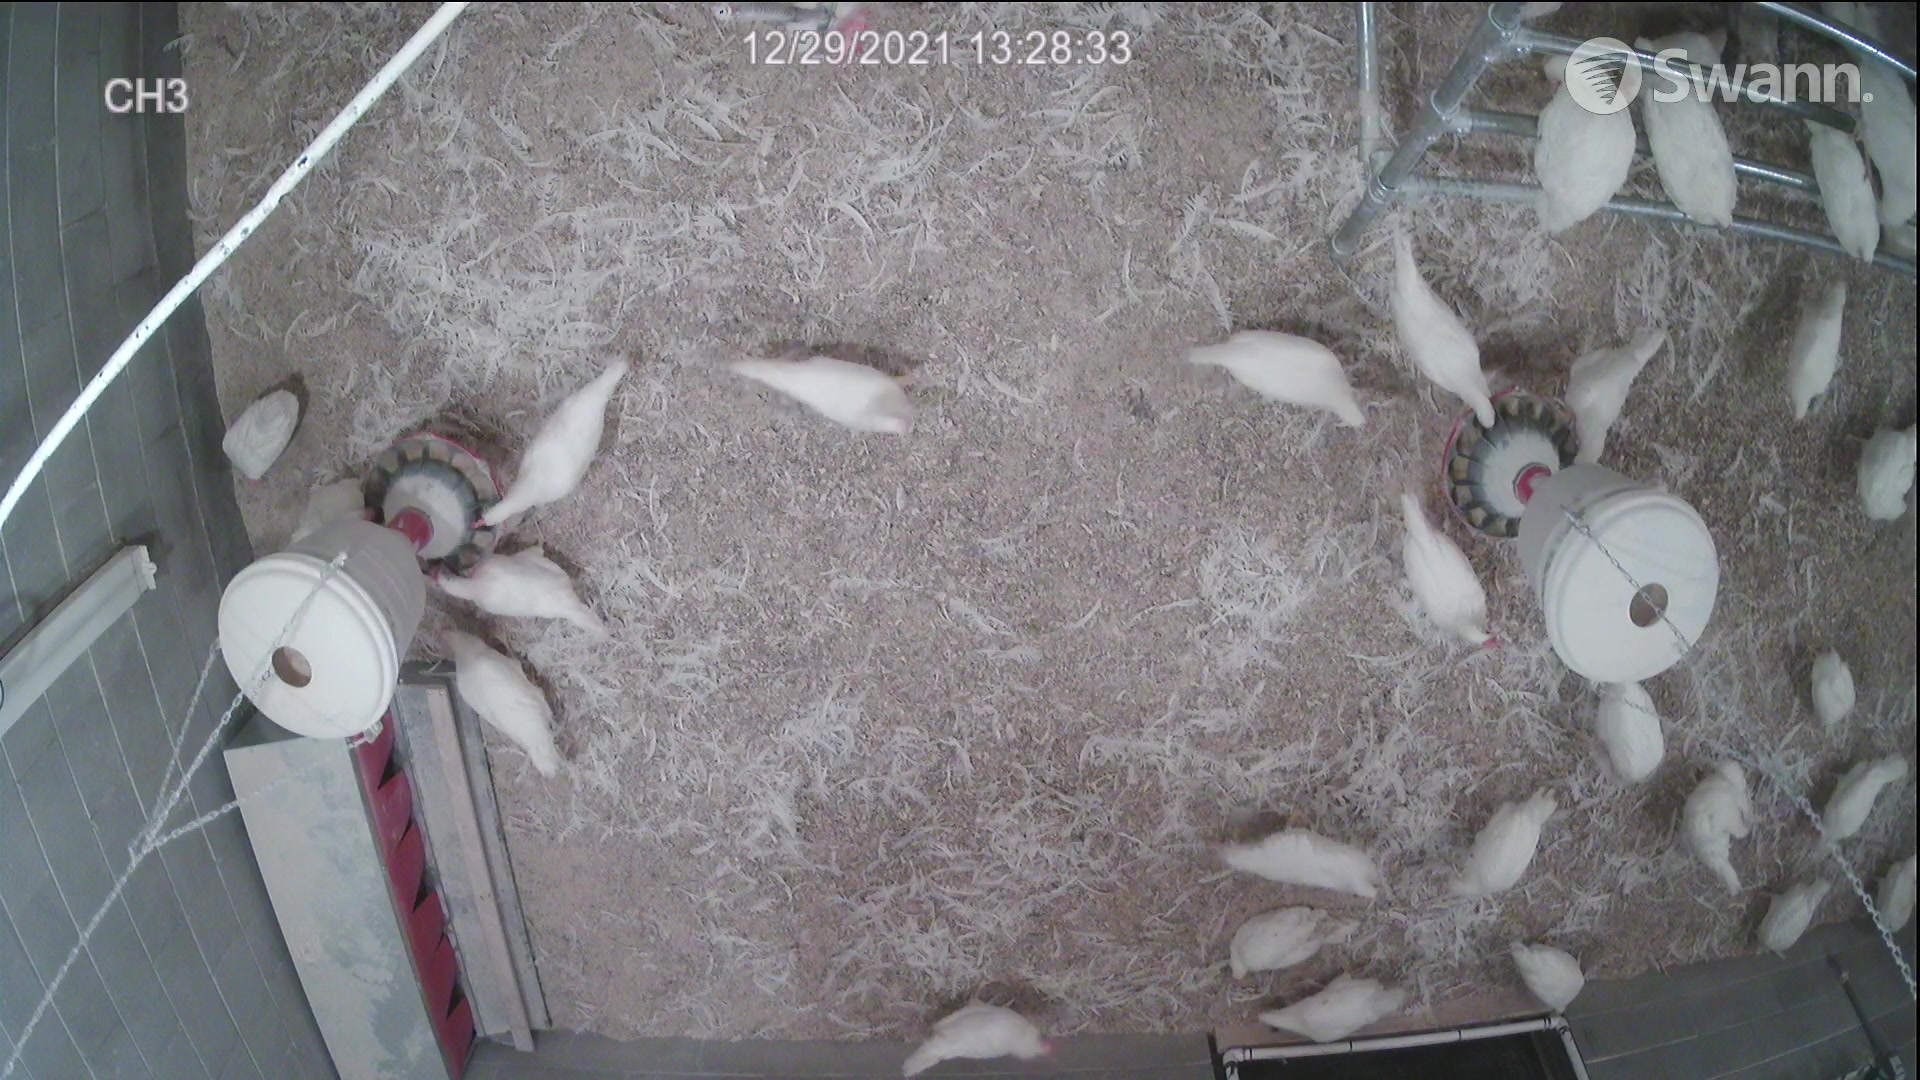Feeding: (444, 345, 640, 521), (1385, 232, 1509, 430), (1543, 301, 1672, 469), (419, 541, 615, 647)
Foraging: (1182, 319, 1385, 435), (1203, 818, 1395, 905), (1451, 774, 1568, 914), (1771, 272, 1869, 429)
Perching: (1788, 98, 1905, 266), (1636, 41, 1738, 225), (1519, 61, 1626, 214)
